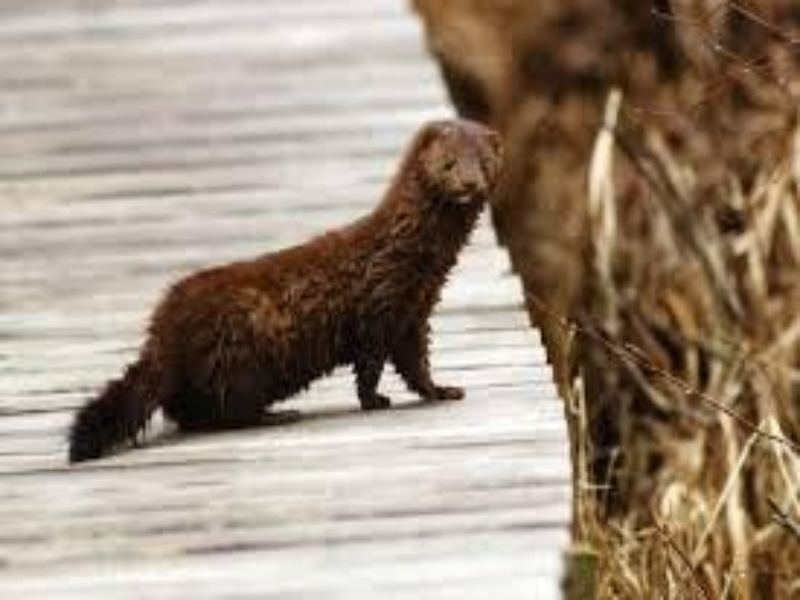minkish: (62, 113, 510, 467)
